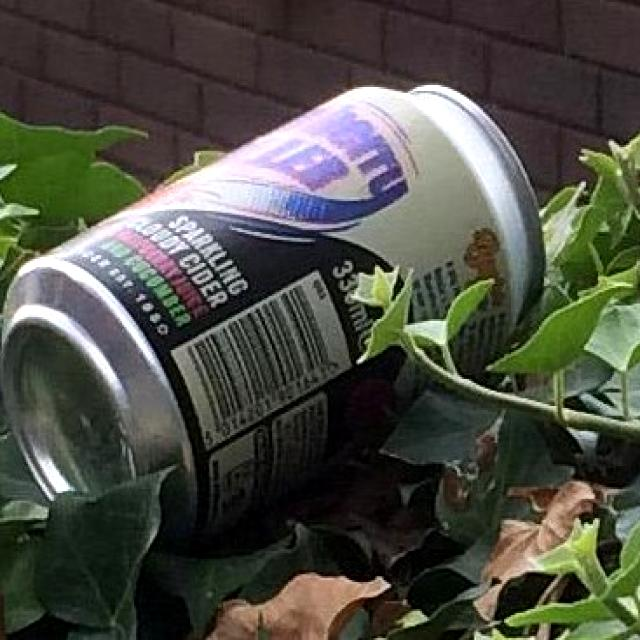Metal: (0, 72, 554, 563)
